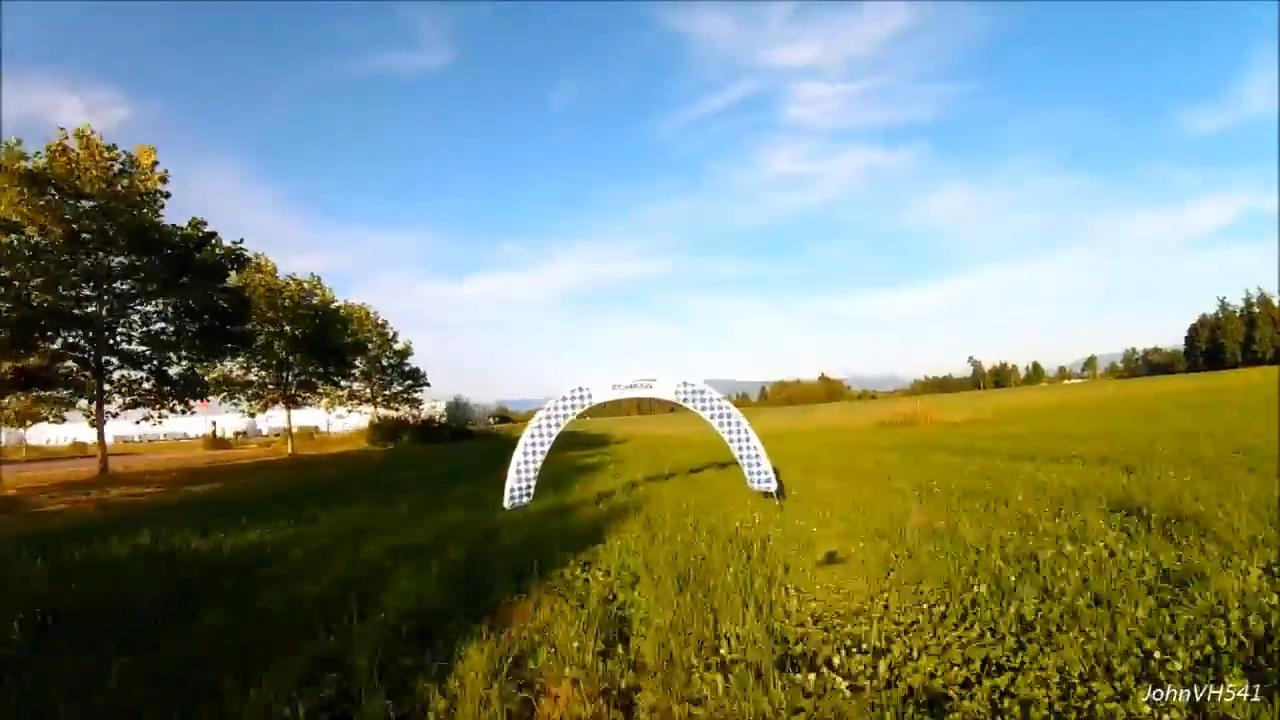gate: (501, 370, 783, 510)
